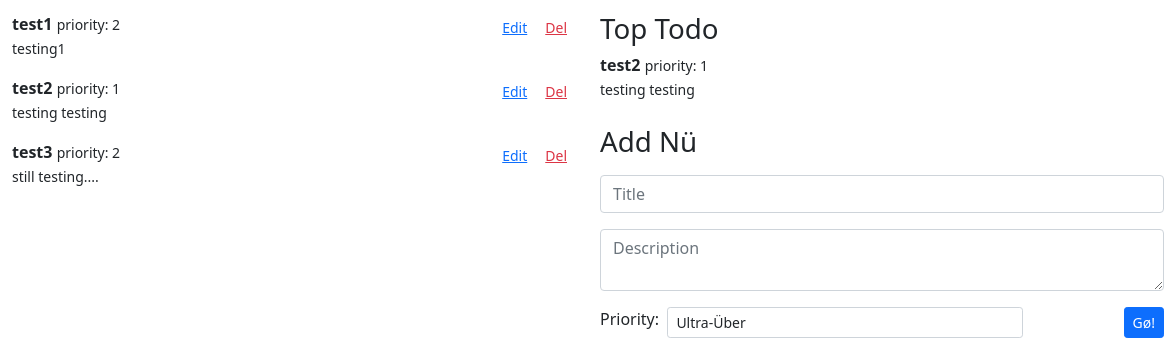
Test: TodoApp component › editing a todo to make it a top priority works
Click the button with class "EditableTodo-toggle" in the row of "testing1" at (515, 28), box [493, 12, 536, 43]
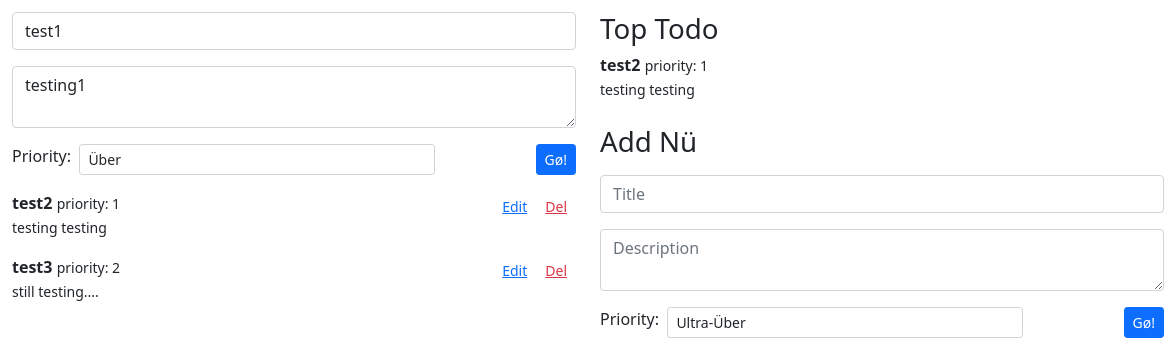
Replace the text in the field with id "newTodo-title" with "testTitle" at (294, 31), box [12, 12, 576, 50]
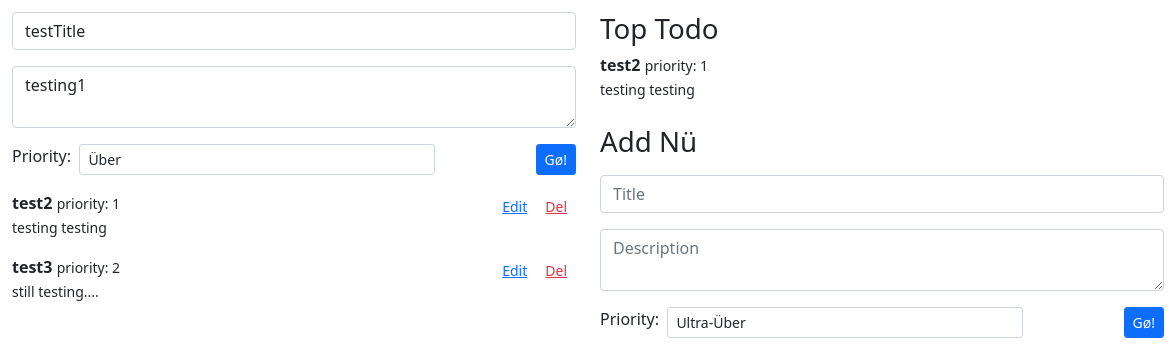
Replace the text in the text box with id "newTodo-description" with "testDesc" at (294, 97), box [12, 66, 576, 128]
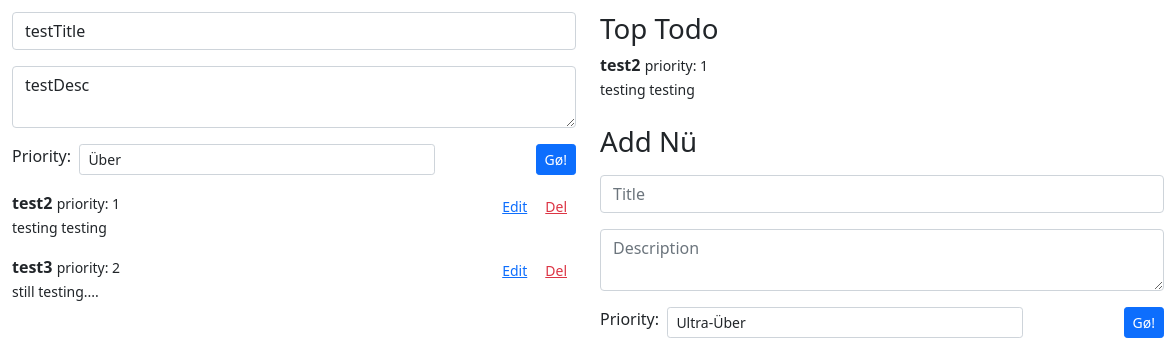
Select "Ultra-Über" in the dropdown labelled "Priority:" at (257, 160), box [79, 144, 435, 175]
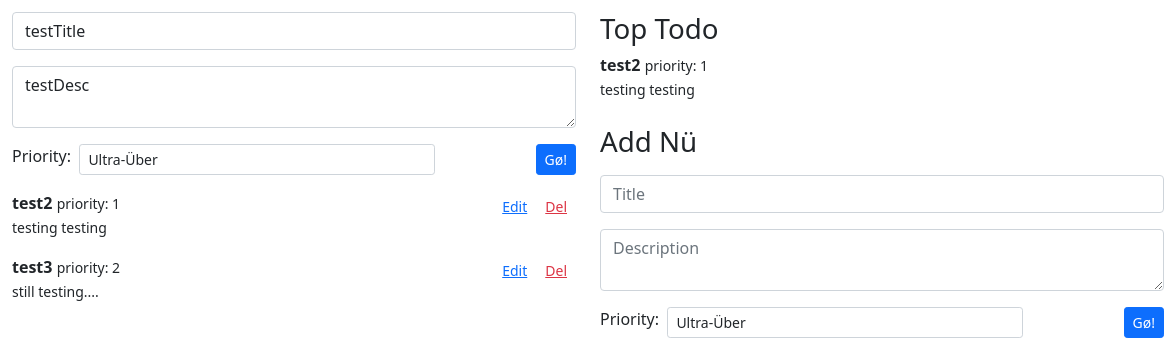
Click the 1st button "Gø!" at (556, 160), box [536, 144, 576, 175]
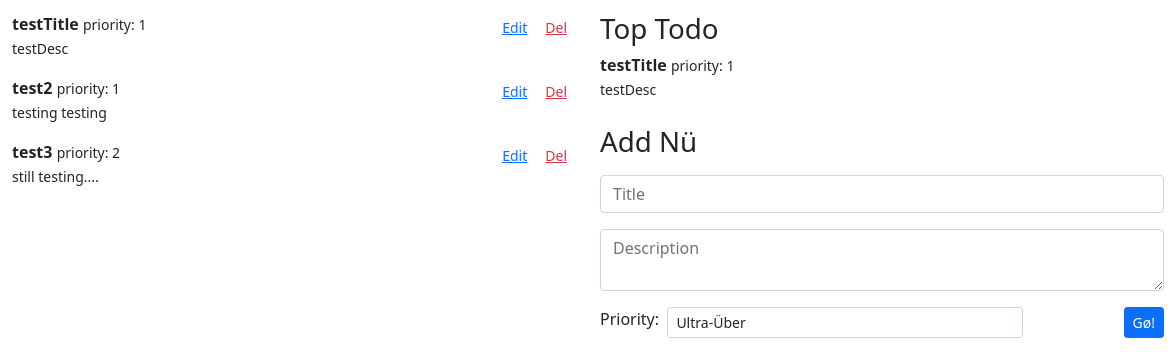
Check: the text "testTitle" is shown 2 times, box [12, 13, 79, 35]; [600, 54, 667, 76]
Check: the text "testDesc" is shown 2 times, box [12, 39, 68, 58]; [600, 80, 656, 99]
